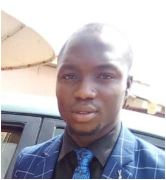without_facemask: (56, 88, 125, 140)
